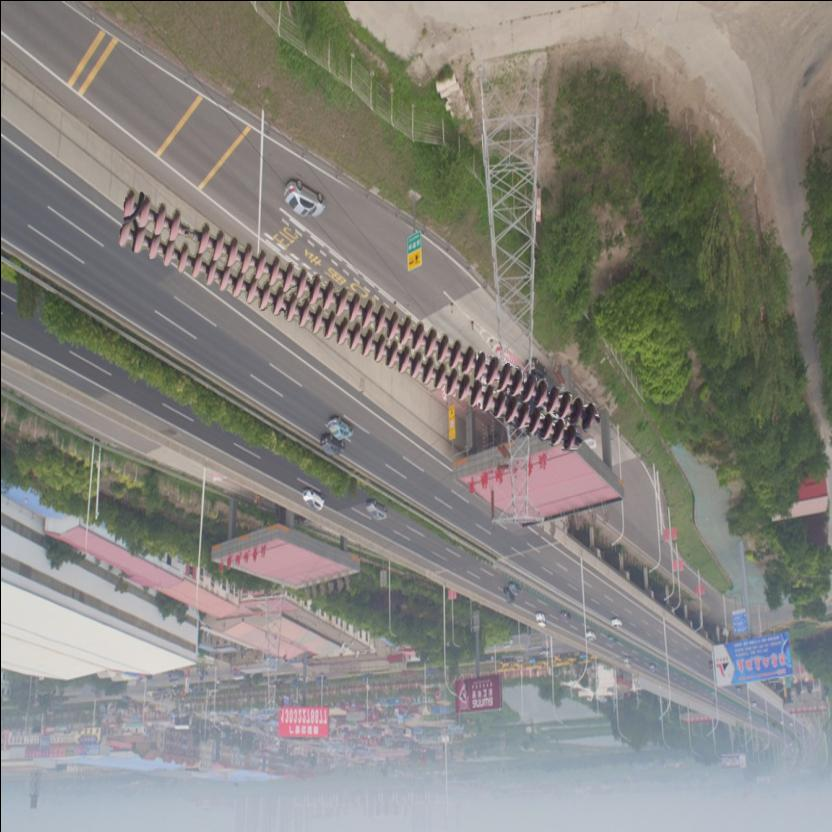defect: (164, 210, 210, 256)
